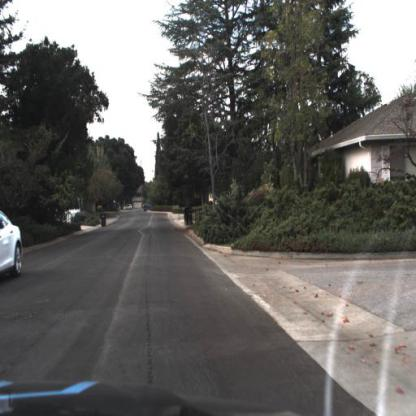car: (2, 209, 25, 282), (145, 201, 155, 212), (127, 206, 132, 211)
